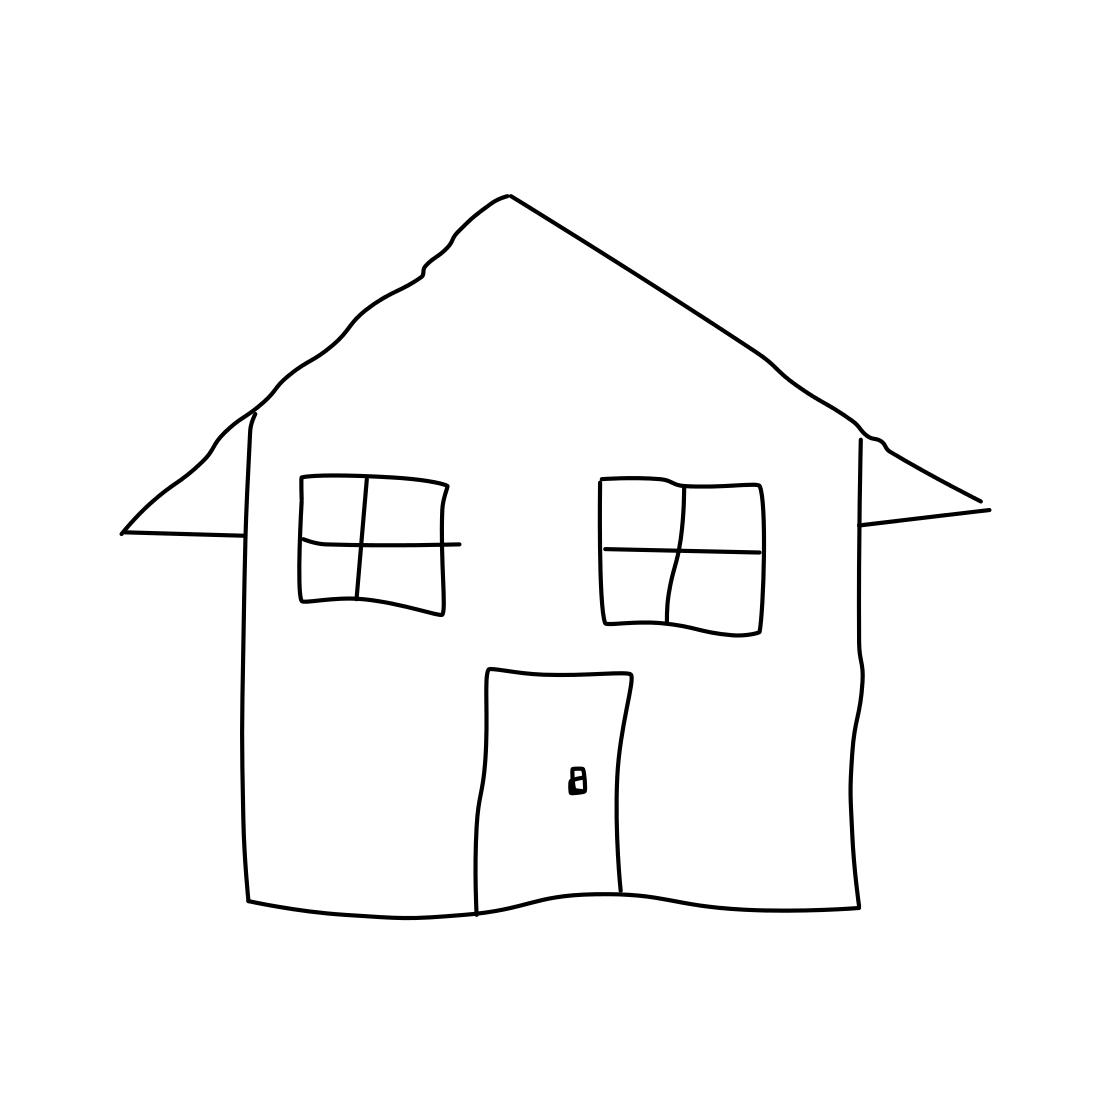House: (96, 167, 1015, 922)
